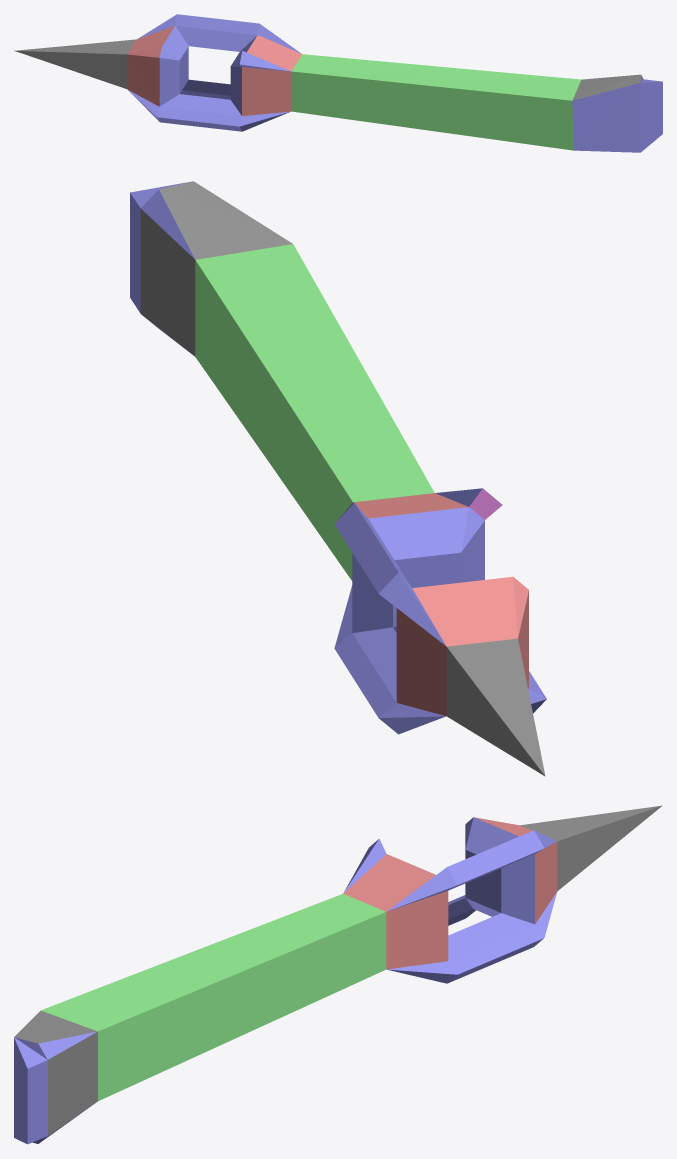
File: Field_Deco_Artifact_S__world_obj21.gltf
The picture shows the model from 3 angles, top to bottom: view 1: azimuth 30°, elevation 25°; view 2: azimuth 150°, elevation 25°; view 3: azimuth 270°, elevation 25°; orthographic projection. The views are drawn at different scales.
Parts seen in each view (by area): view 1: world_obj21; view 2: world_obj21; view 3: world_obj21.
Boxes of the visible parts, x1=… form: world_obj21: x1=14, y1=14, x2=662, y2=152; world_obj21: x1=130, y1=181, x2=546, y2=776; world_obj21: x1=14, y1=805, x2=662, y2=1144.
Size of the model in its own units: 1.82 by 0.3296 by 1.66.
